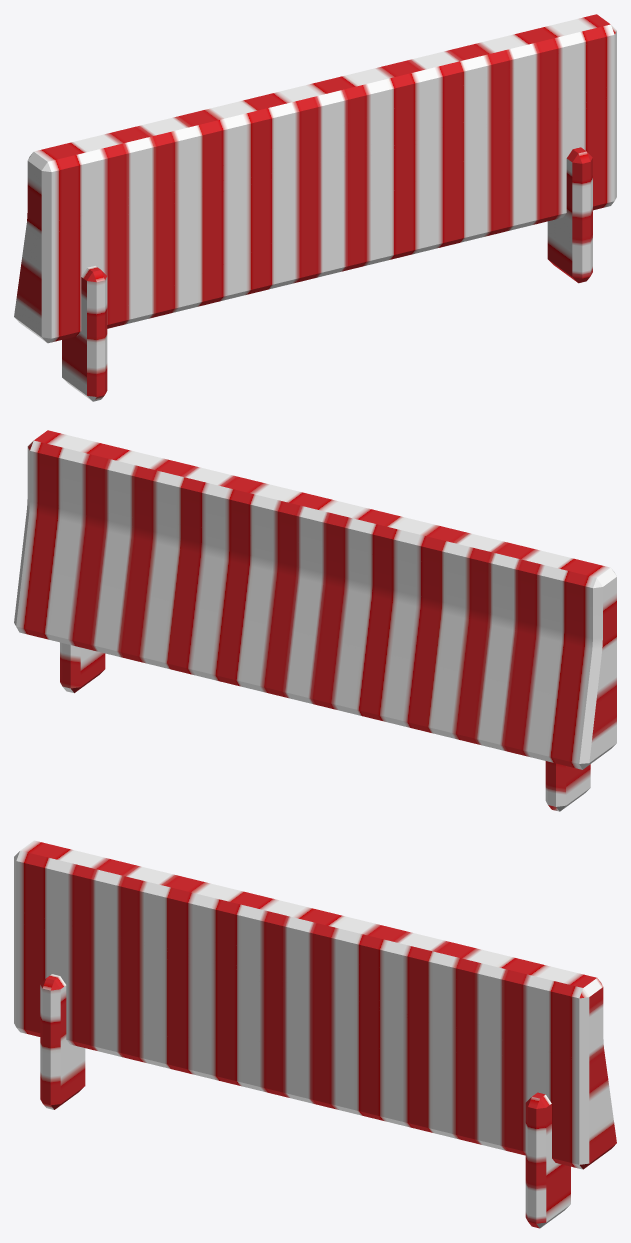
File: parking block.fbx
3 views of the same model, one above another, from view 1: azimuth 30°, elevation 25°; view 2: azimuth 150°, elevation 25°; view 3: azimuth 330°, elevation 25° (orthographic).
Parts seen in each view (by area): view 1: parking_block.001; view 2: parking_block.001; view 3: parking_block.001.
Part boxes in pixels (x1,y1,x2,y2): parking_block.001: (14,14,616,401); parking_block.001: (14,430,616,811); parking_block.001: (14,840,616,1228).
Bounding box in the file's own units: 188 × 75.42 × 25.41.
1 material, 1 textured.
